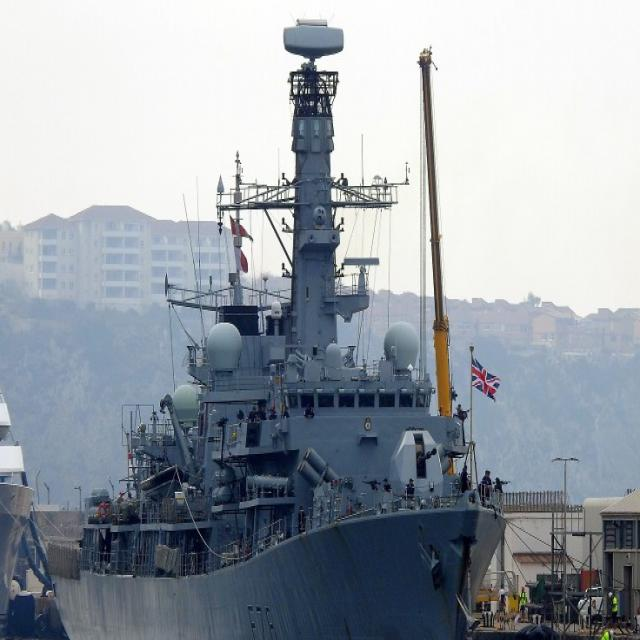Fragata: (43, 10, 515, 640)
